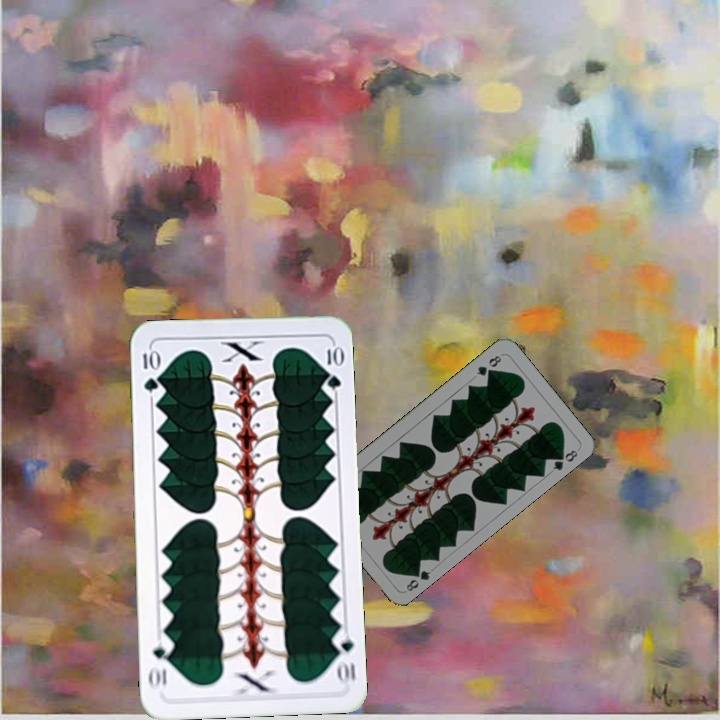G10: (329, 628, 358, 687), (139, 345, 160, 394)
G8: (402, 564, 433, 594), (472, 351, 504, 379)
